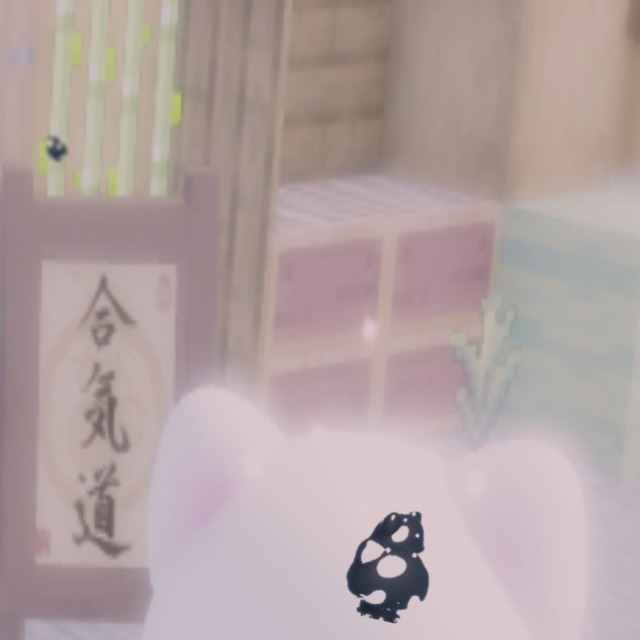urso_preto: (335, 491, 454, 631), (37, 128, 74, 169)
